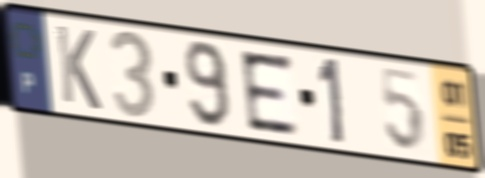1: (314, 56, 347, 149)
3: (107, 28, 161, 122)
5: (377, 63, 429, 156)
9: (181, 38, 234, 131)
E: (236, 48, 302, 137)
K: (52, 21, 104, 114)
